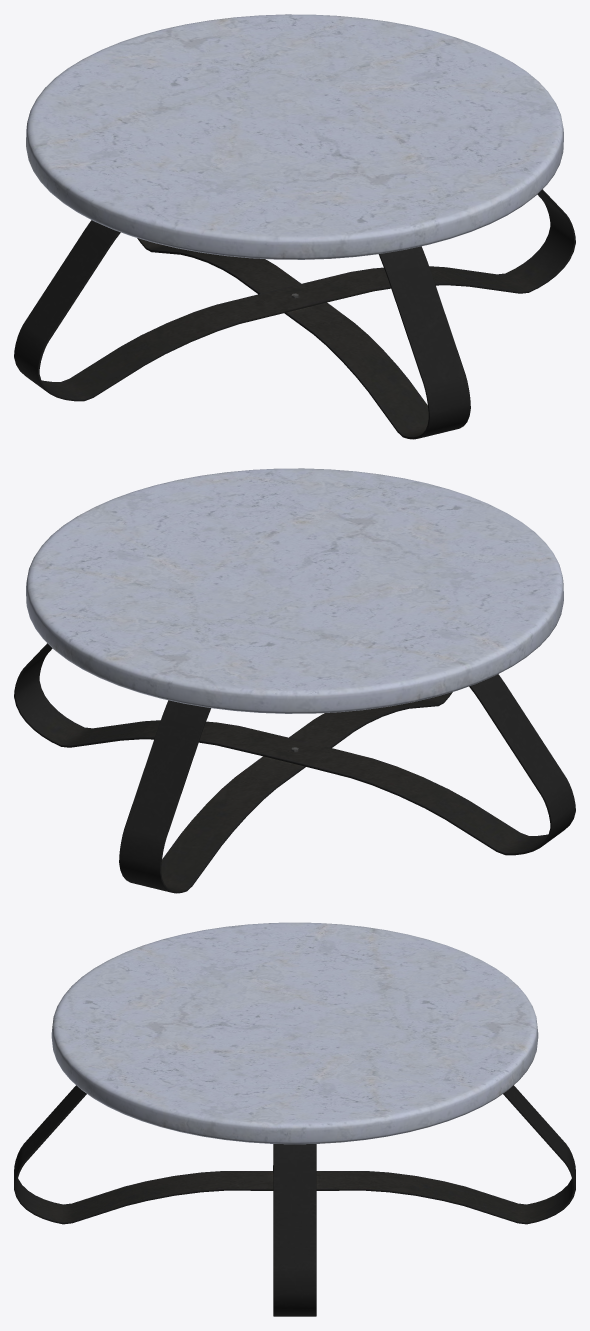
Rendered from coffee_table_round_01.glb.
The picture shows the model from 3 angles, top to bottom: view 1: azimuth 30°, elevation 25°; view 2: azimuth 150°, elevation 25°; view 3: azimuth 270°, elevation 25°; orthographic projection. The views are drawn at different scales.
Visible parts, largest first — view 1: coffee_table_round_01; view 2: coffee_table_round_01; view 3: coffee_table_round_01.
Boxes of the visible parts, x1,y1,x2,y2 form: coffee_table_round_01: (14,14,575,439); coffee_table_round_01: (14,468,575,893); coffee_table_round_01: (14,922,575,1316).
Size of the model in its own units: 1.3 by 0.4911 by 1.3.
Materials: 1 (1 with a texture image).
